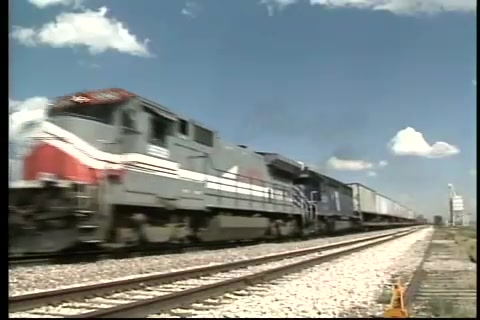train: (11, 82, 419, 255)
